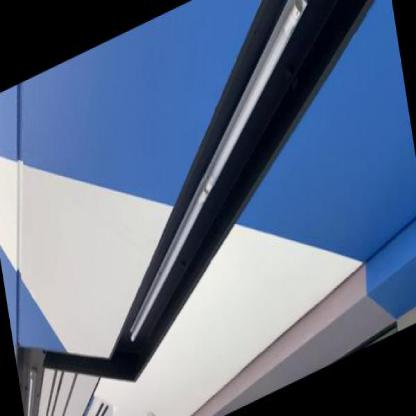light_off: (84, 0, 350, 363)
